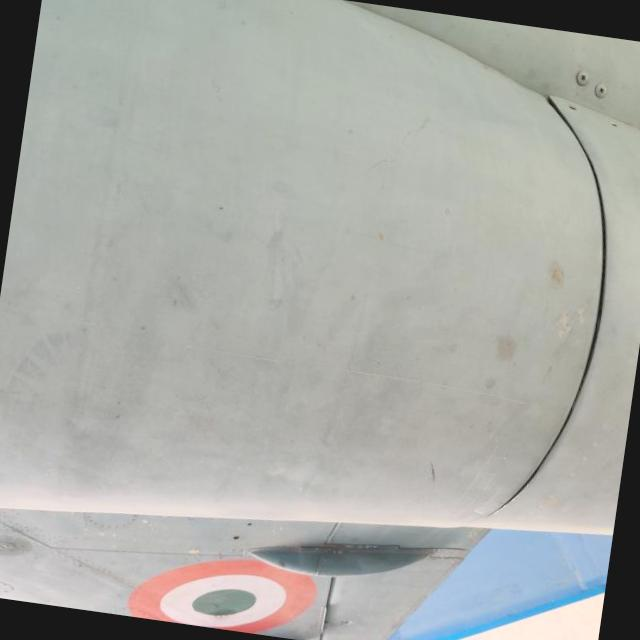scratch: (168, 322, 546, 431)
